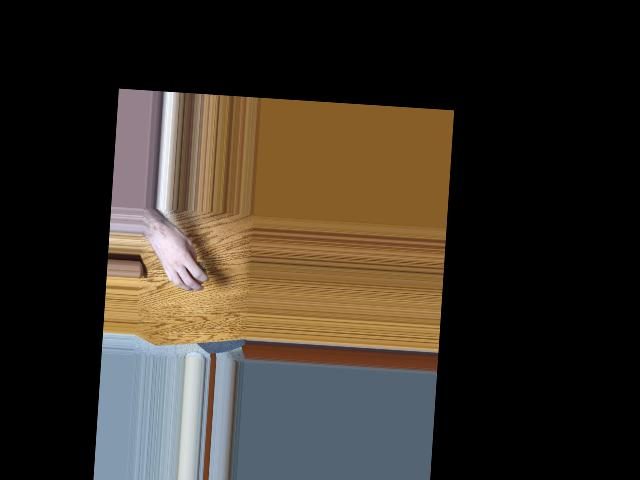onion: (181, 259, 206, 286)
